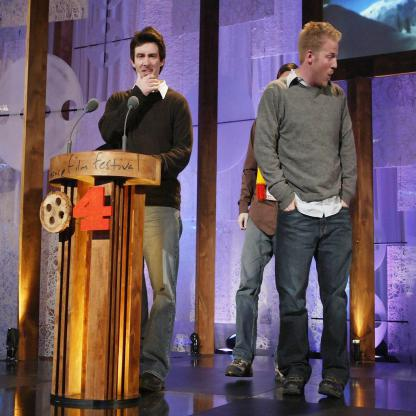face: (314, 36, 338, 87), (136, 43, 162, 86)
